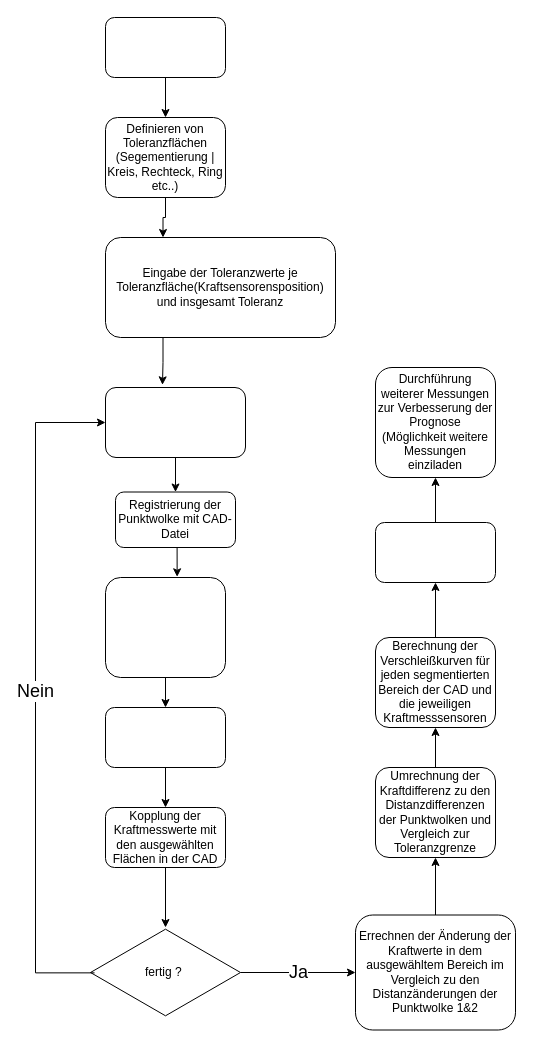
Image size: 533x1048. Some labels were removed from this diagram. Each missing label, with the centre of its shape:
"Einladen der CAD-Datei (.stl)" belongs at point (165, 47).
"Einladen der Punktwolke der Messung(1./2./3.)" belongs at point (175, 422).
"Einladen und Darstellung der Kraftmesswerte" belongs at point (165, 737).
"Erste Prognositizierung der Standmenge" belongs at point (435, 552).
"Vergleich der einzelnen Toleranzflächen zwischen Punktwolke und CAD" belongs at point (165, 627).
